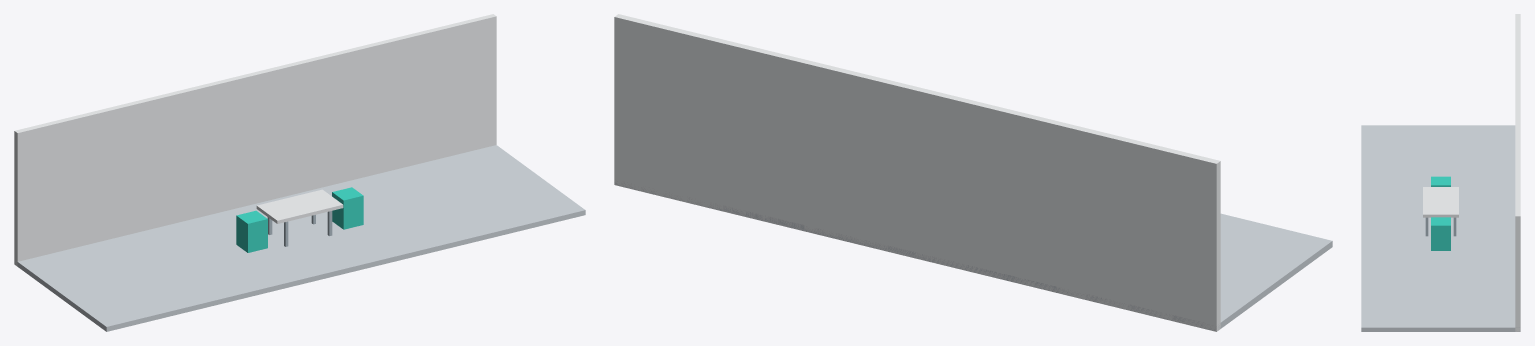
3 renders of one model, left to right at view 1: azimuth 30°, elevation 25°; view 2: azimuth 150°, elevation 25°; view 3: azimuth 270°, elevation 25°, orthographic. The views are drawn at different scales.
Visible parts, largest first — view 1: Exhibition Booth Concept; view 2: Exhibition Booth Concept; view 3: Exhibition Booth Concept.
Part boxes in pixels (x1,y1,x2,y2): Exhibition Booth Concept: [14, 14, 585, 331]; Exhibition Booth Concept: [614, 14, 1332, 331]; Exhibition Booth Concept: [1361, 14, 1520, 331].
Size of the model in its own units: 12 by 3.2 by 4.
